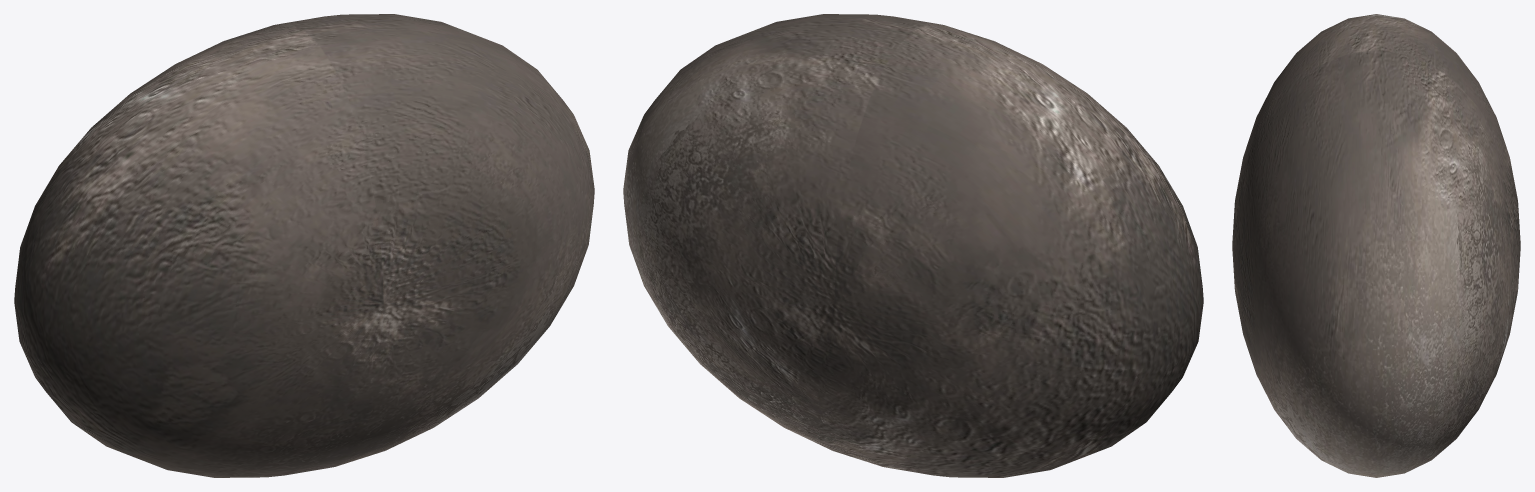
The model's file is haumea-nasa-model.glb.
3 views of the same model, side by side, from view 1: azimuth 30°, elevation 25°; view 2: azimuth 150°, elevation 25°; view 3: azimuth 270°, elevation 25° (orthographic). The views are drawn at different scales.
Visible parts, largest first — view 1: Haumea; view 2: Haumea; view 3: Haumea.
Part boxes in pixels (x1,y1,x2,y2): Haumea: (14,14,594,477); Haumea: (623,14,1203,477); Haumea: (1232,14,1520,477).
Bounding box in the file's own units: 2322 × 1704 × 1138.
Materials: 1 (1 with a texture image).
